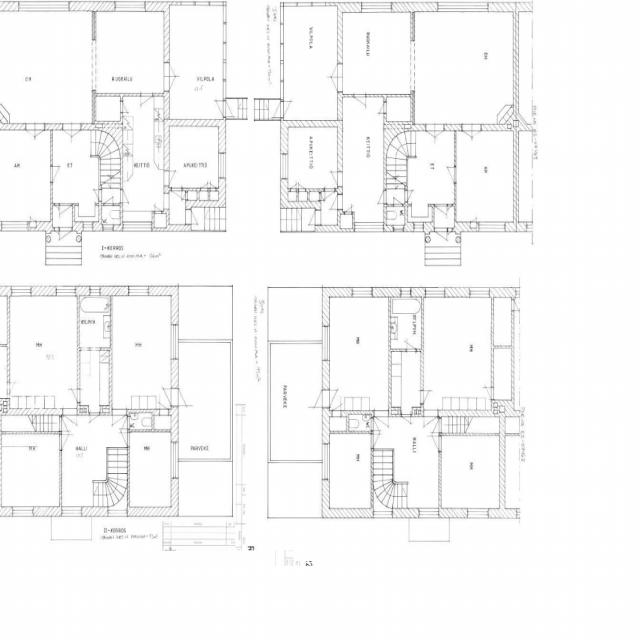door: (171, 388, 193, 406), (157, 388, 179, 406), (308, 390, 330, 408), (322, 390, 344, 408), (424, 409, 438, 434), (63, 408, 77, 432), (112, 409, 126, 433), (163, 170, 182, 186), (375, 411, 388, 434), (280, 101, 297, 118), (59, 227, 72, 248), (267, 101, 283, 118), (163, 76, 181, 91), (185, 209, 203, 224), (325, 64, 343, 79), (303, 210, 321, 225), (426, 436, 442, 452), (223, 101, 239, 117), (210, 101, 226, 117), (441, 166, 456, 183), (163, 62, 181, 76), (325, 79, 343, 93), (435, 227, 447, 248), (325, 172, 343, 186), (59, 434, 74, 450), (50, 166, 65, 182), (326, 195, 343, 209), (140, 94, 153, 112), (354, 94, 366, 113), (420, 390, 435, 404), (436, 204, 448, 221), (62, 122, 72, 142), (35, 122, 45, 142), (66, 389, 80, 403), (6, 380, 20, 394), (462, 124, 472, 143), (472, 124, 482, 143), (425, 124, 435, 143), (435, 124, 445, 143), (60, 203, 71, 220), (428, 419, 442, 432), (72, 122, 81, 142), (26, 122, 35, 142), (171, 188, 182, 204), (59, 417, 72, 430), (116, 433, 129, 446), (371, 434, 384, 447), (407, 336, 417, 352), (371, 418, 384, 430), (119, 190, 132, 202), (374, 190, 386, 203), (404, 190, 417, 202), (117, 416, 129, 428), (482, 383, 494, 395), (374, 101, 386, 113), (89, 413, 99, 427), (160, 398, 168, 415), (325, 189, 334, 204), (90, 190, 101, 202), (104, 191, 113, 205), (393, 192, 402, 206), (120, 101, 131, 112), (402, 414, 411, 427), (333, 401, 340, 416), (155, 202, 161, 214), (299, 180, 305, 192), (290, 181, 296, 192), (180, 192, 188, 200), (320, 192, 328, 200), (201, 180, 207, 190), (211, 180, 217, 190), (447, 228, 452, 240), (54, 227, 59, 238), (345, 204, 350, 214), (54, 203, 59, 212), (448, 204, 452, 212)
